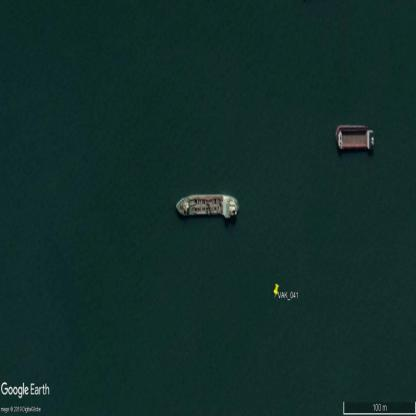ship: (176, 193, 239, 222)
